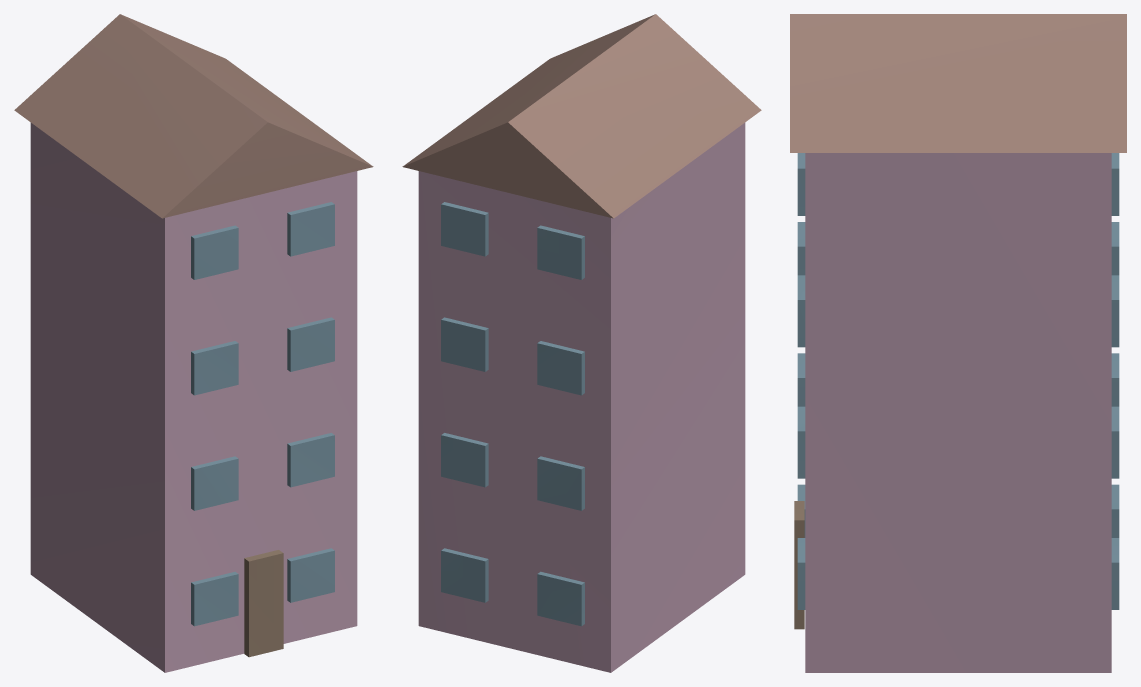
Rendered from townhouse-00.glb.
3 renders of one model, left to right at view 1: azimuth 30°, elevation 25°; view 2: azimuth 150°, elevation 25°; view 3: azimuth 270°, elevation 25°, orthographic. The views are drawn at different scales.
Visible parts, largest first — view 1: world; view 2: world; view 3: world.
Part boxes in pixels (x1,y1,x2,y2): world: (14, 14, 373, 672); world: (402, 14, 761, 672); world: (790, 14, 1126, 672).
Bounding box in the file's own units: 0.925 × 2.22 × 1.12.
